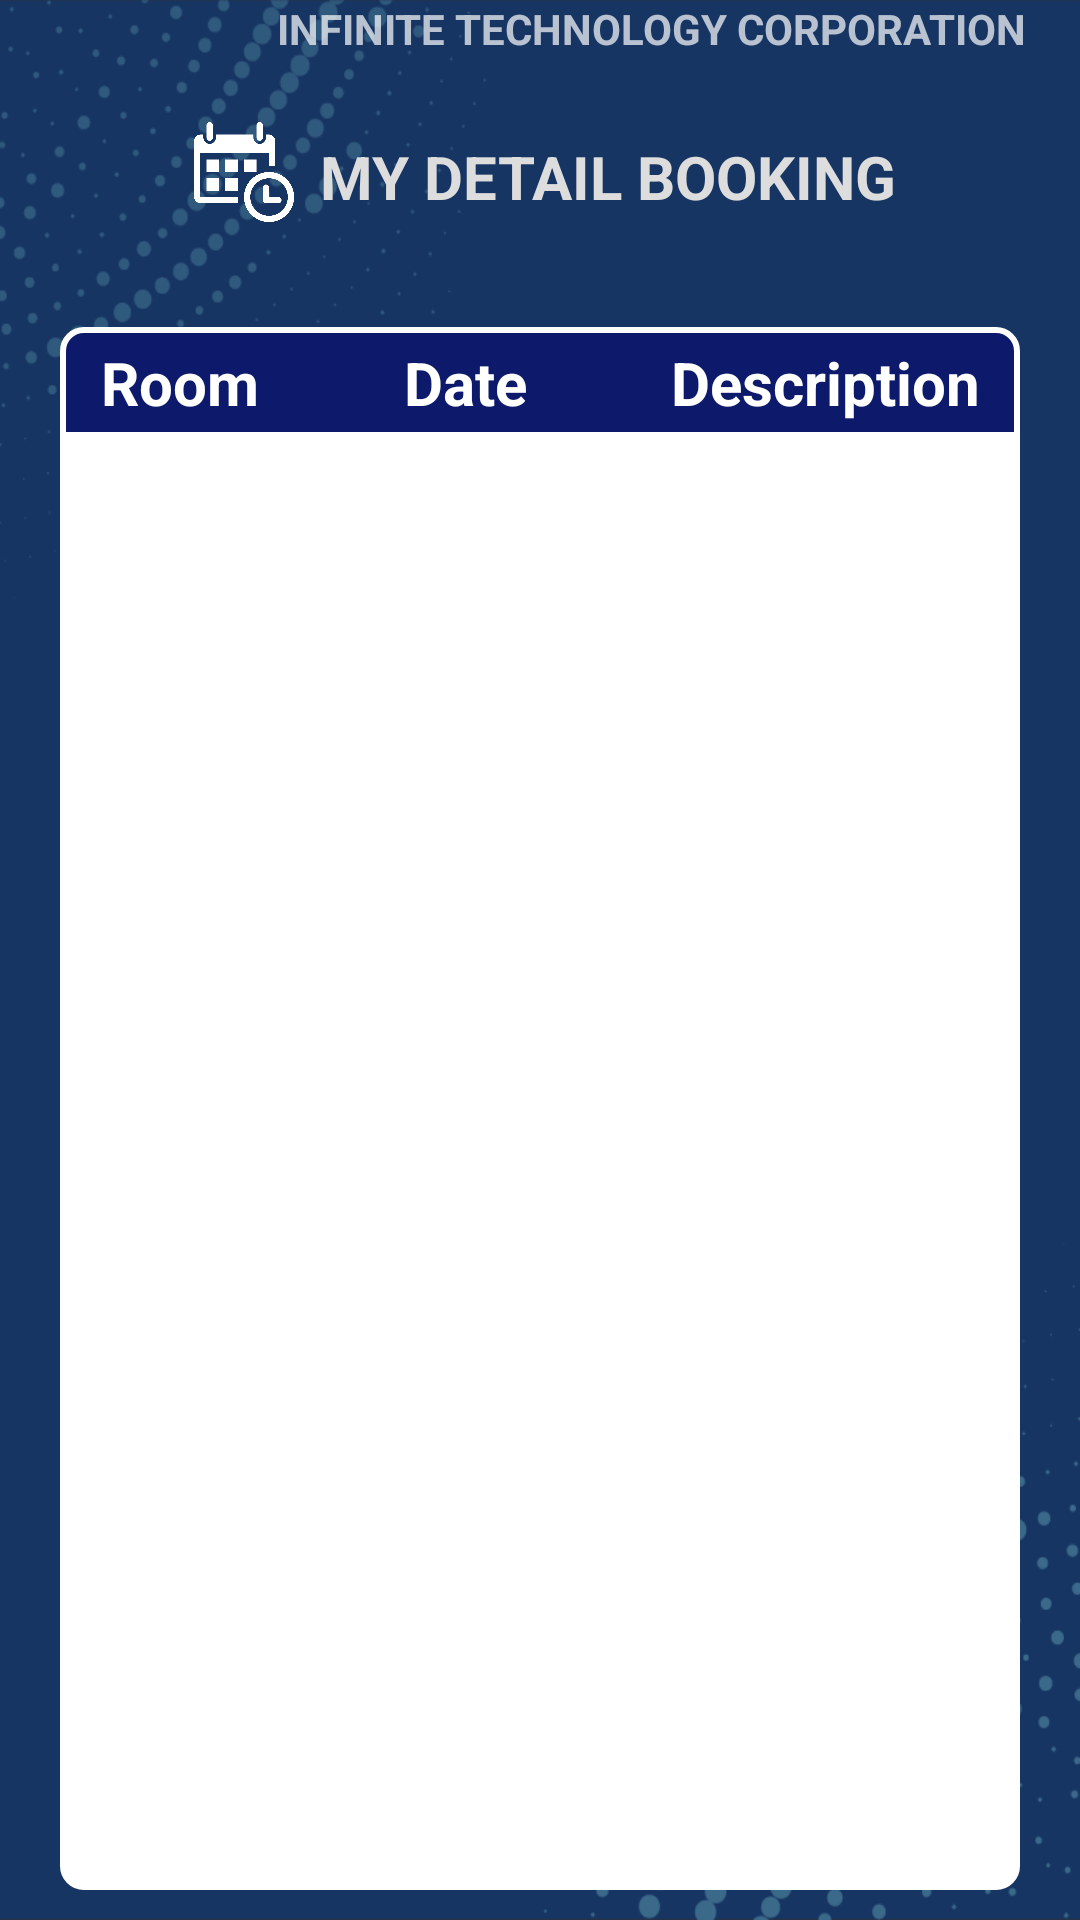

Where icons sit on this 1080 × 1920 app screen, as (left=x1, top=y1, right=x2, bottom=y2):
bookingicon: (left=184, top=117, right=304, bottom=237)
